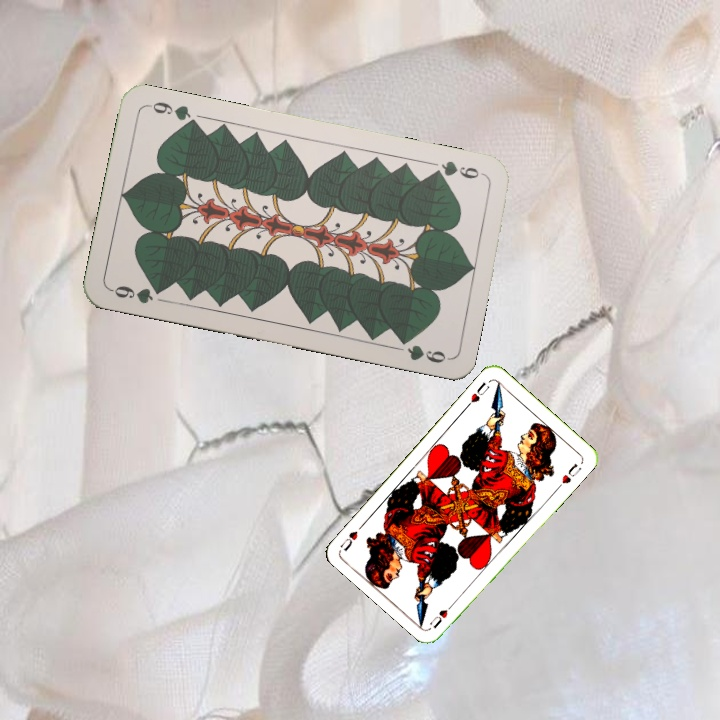G9: (427, 156, 487, 182), (107, 281, 167, 306)
HU: (425, 597, 458, 631), (462, 378, 492, 410)
